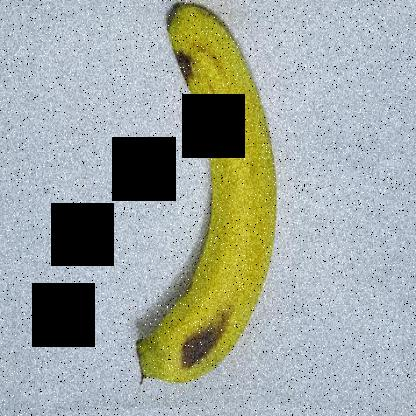freshripe: (126, 1, 290, 395)
